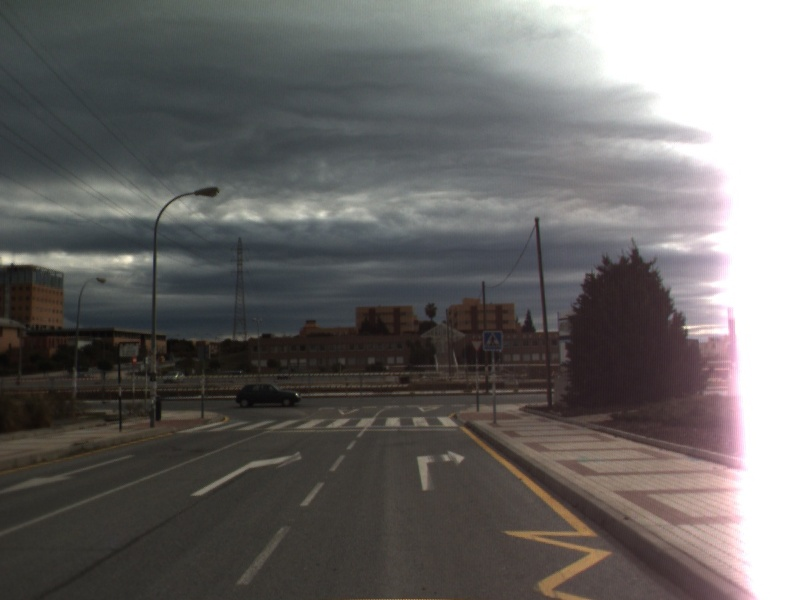RIGHT: (188, 449, 303, 498), (415, 448, 467, 493)
